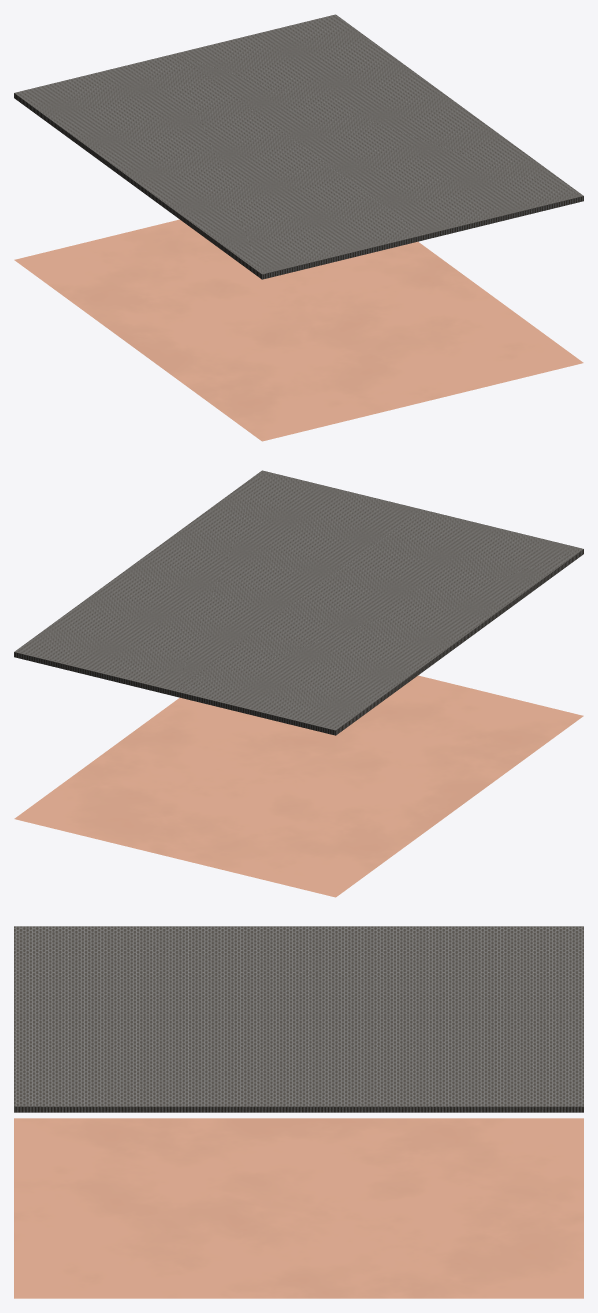
File: Panel.FBX
3 renders of one model, top to bottom at view 1: azimuth 30°, elevation 25°; view 2: azimuth 150°, elevation 25°; view 3: azimuth 270°, elevation 25°, orthographic. The views are drawn at different scales.
Parts seen in each view (by area): view 1: Panel01, Panel02; view 2: Panel01, Panel02; view 3: Panel01, Panel02.
Boxes of the visible parts, left/top/right/bottom form: Panel01: left=14, top=14, right=583, bottom=279; Panel02: left=14, top=219, right=583, bottom=441; Panel01: left=14, top=470, right=583, bottom=735; Panel02: left=14, top=675, right=583, bottom=897; Panel01: left=14, top=926, right=583, bottom=1112; Panel02: left=14, top=1118, right=583, bottom=1298.
Size of the model in its own units: 47.12 by 23.36 by 62.92.
